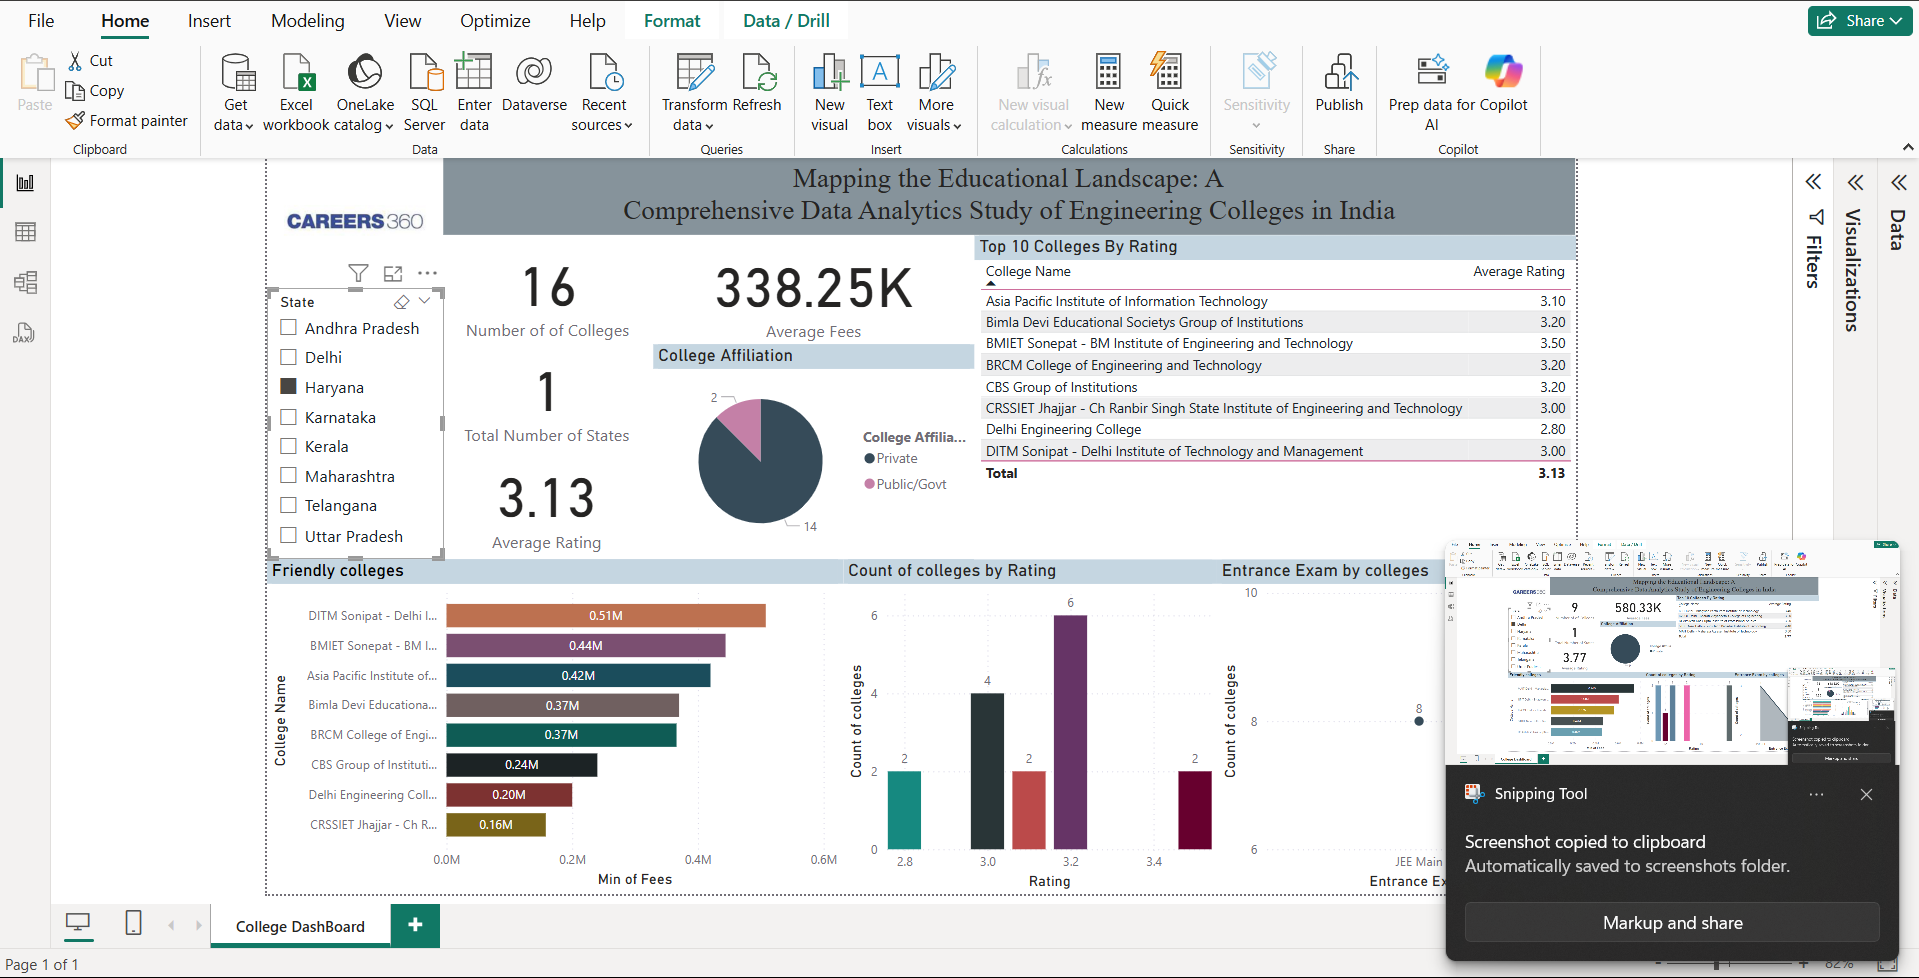

This screenshot's page, from the dashboard's own definition file:
{"tool":"powerbi","page":{"name":"College DashBoard","canvas":[1280,720],"ordinal":0},"visuals":[{"type":"card","fields":{"Values":["Sheet.Average_Fees"]},"box":[377.4,75.5,314.2,109.8],"z":0},{"type":"card","fields":{"Values":["College_data.Count_ccolleges"]},"box":[172.4,75.8,204.2,107.6],"z":1000},{"type":"card","fields":{"Values":["College_data.no_stares"]},"box":[172.9,182.5,203.1,100.2],"z":2000},{"type":"slicer","fields":{"Values":["College_data.State"]},"box":[0,127.6,172.9,264.8],"z":3000},{"type":"textbox","box":[172.9,0,1107.4,75.5],"z":4000},{"type":"pieChart","title":"College Affiliation","fields":{"Category":["College_data.College Affiliation"],"Y":["College_data.Number of of Colleges"]},"box":[377.4,182.5,314.2,209.9],"z":5000},{"type":"card","fields":{"Values":["College_data.Average Rating"]},"box":[172.9,282.7,203.1,108.4],"z":6000},{"type":"columnChart","title":"Count of colleges by Rating","fields":{"Category":["Sheet.Rating"],"Y":["CountNonNull(Sheet.College Name)"],"Series":["Sheet.Rating"]},"box":[563.7,392.5,365.6,327.7],"z":7000},{"type":"barChart","title":"Friendly colleges","fields":{"Category":["College_data.College Name"],"Series":["College_data.College Name"],"Y":["Min(College_data.Fees)"]},"box":[0,392.5,563.7,326.5],"z":8000},{"type":"stackedAreaChart","title":"Entrance Exam by colleges","fields":{"Category":["Sheet.Entrance Exam"],"Y":["Count(College_data.College Name)"]},"box":[929.4,392.5,351,327.7],"z":9000},{"type":"image","box":[0,0,172.4,122.3],"z":10000},{"type":"tableEx","title":"Top 10 Colleges By Rating","fields":{"Values":["College_data.College Name","College_data.Average Rating"]},"box":[691.6,75.5,588.7,317],"z":11000}]}

Visuals, with their boxes on the page's 1280x720 design canvas (x1, y1, x2, y2). These are canvas units, not pixel positions in the 1919x978 screenshot, which may show the page scaled, cropped or inside an application window:
card - Sheet.Average_Fees: <region>377, 76, 692, 185</region>
card - College_data.Count_ccolleges: <region>172, 76, 377, 183</region>
card - College_data.no_stares: <region>173, 182, 376, 283</region>
slicer - College_data.State: <region>0, 128, 173, 392</region>
textbox: <region>173, 0, 1280, 76</region>
"College Affiliation" pieChart: <region>377, 182, 692, 392</region>
card - College_data.Average Rating: <region>173, 283, 376, 391</region>
"Count of colleges by Rating" columnChart: <region>564, 392, 929, 720</region>
"Friendly colleges" barChart: <region>0, 392, 564, 719</region>
"Entrance Exam by colleges" stackedAreaChart: <region>929, 392, 1280, 720</region>
image: <region>0, 0, 172, 122</region>
"Top 10 Colleges By Rating" tableEx: <region>692, 76, 1280, 392</region>
